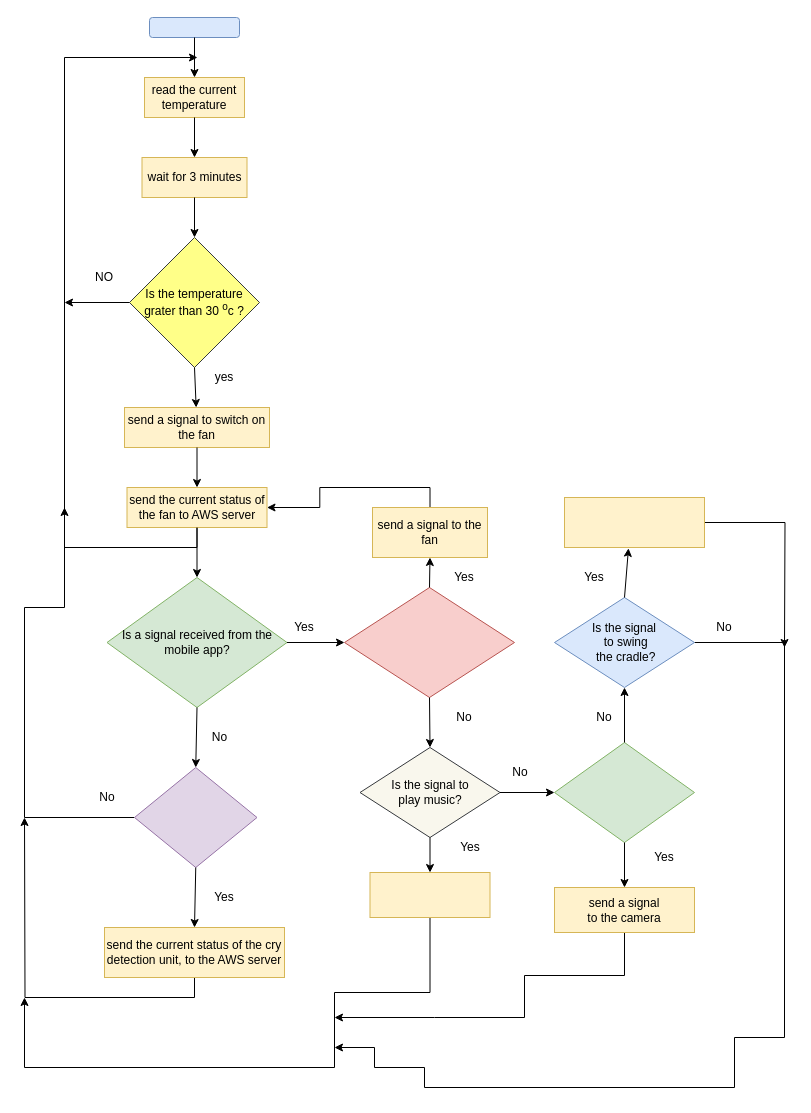
Image size: 811x1113. Some labels were removed from this diagram. The shapes that lost their labels are listed below. From the top down, each one's centre as x and y in pixels, then its label:
point (194, 27): Start
point (634, 522): Send a signal to the motor
point (429, 642): Is the signal to switch on/off the fan?
point (624, 792): Is the signal to monitor the baby?
point (195, 817): Is a cry detected?
point (429, 895): Send a signal to the speaker
